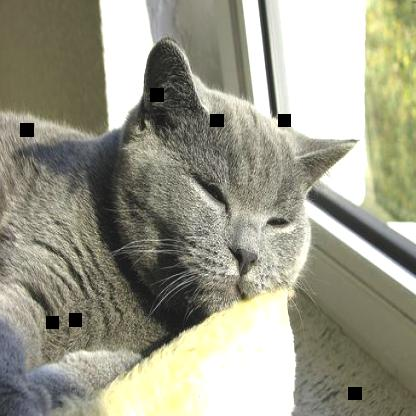cat: (1, 37, 360, 415)
